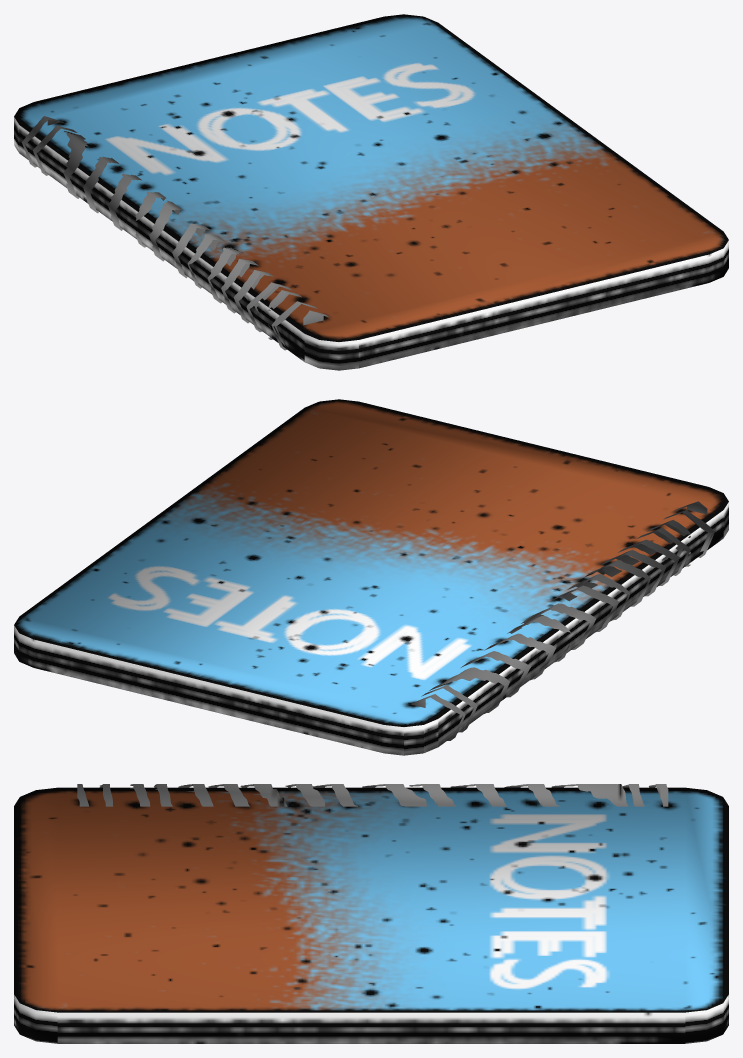
The model's file is notebook.obj.
The picture shows the model from 3 angles, top to bottom: view 1: azimuth 30°, elevation 25°; view 2: azimuth 150°, elevation 25°; view 3: azimuth 270°, elevation 25°; orthographic projection. The views are drawn at different scales.
Parts seen in each view (by area): view 1: Cube; view 2: Cube; view 3: Cube.
Boxes of the visible parts, bbox=[...] form: Cube: bbox=[14, 14, 728, 370]; Cube: bbox=[14, 399, 728, 755]; Cube: bbox=[14, 784, 728, 1043].
Bounding box in the file's own units: 1.58 × 0.1463 × 2.06.
